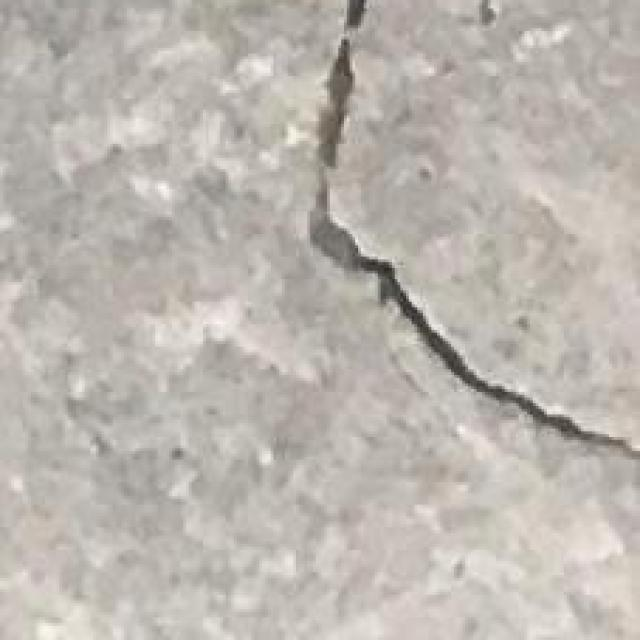Crack: (305, 2, 640, 499)
